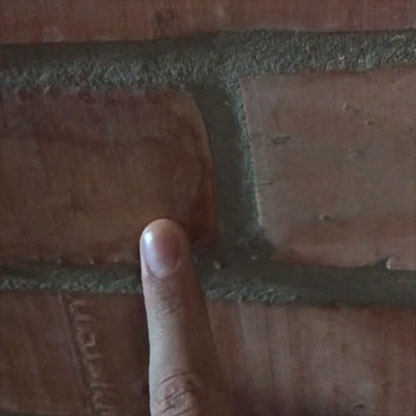fingertip: (131, 213, 209, 285)
